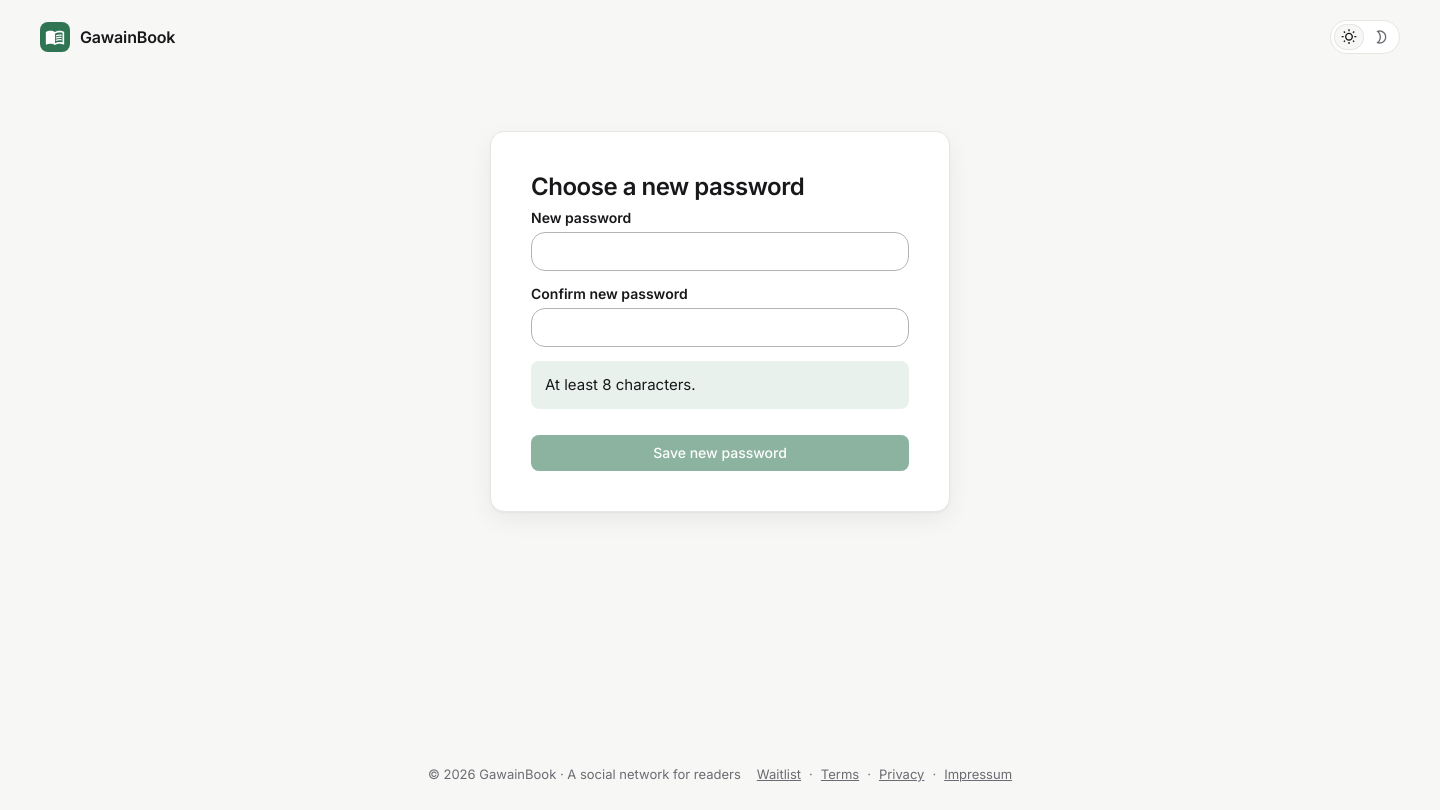
email-link tokens › an old ?token= reset link still works
In the password field labelled "New password": (720, 251) [531, 232, 909, 271], type "new-password-1"
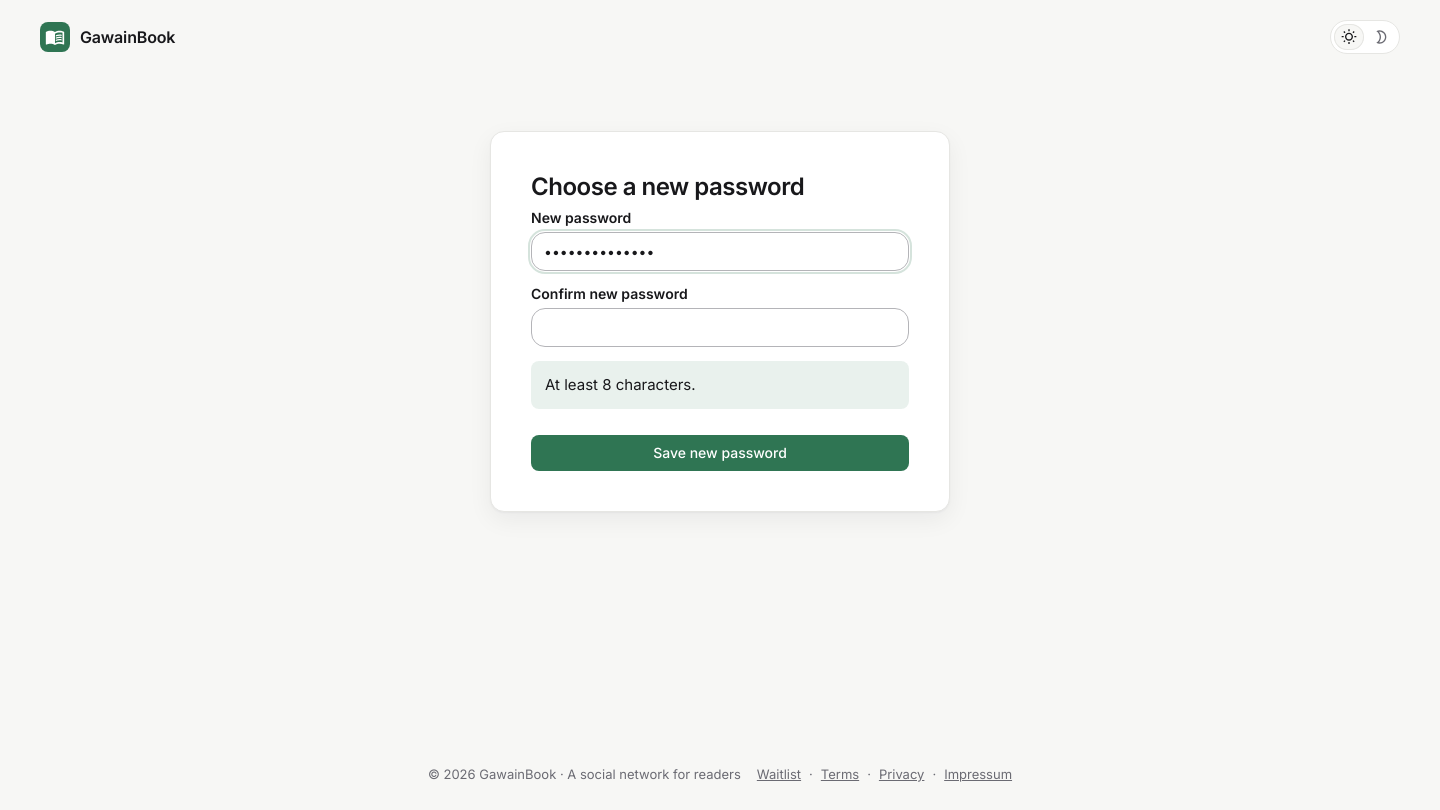
In the password field labelled "Confirm new password": (720, 327) [531, 308, 909, 347], type "new-password-1"
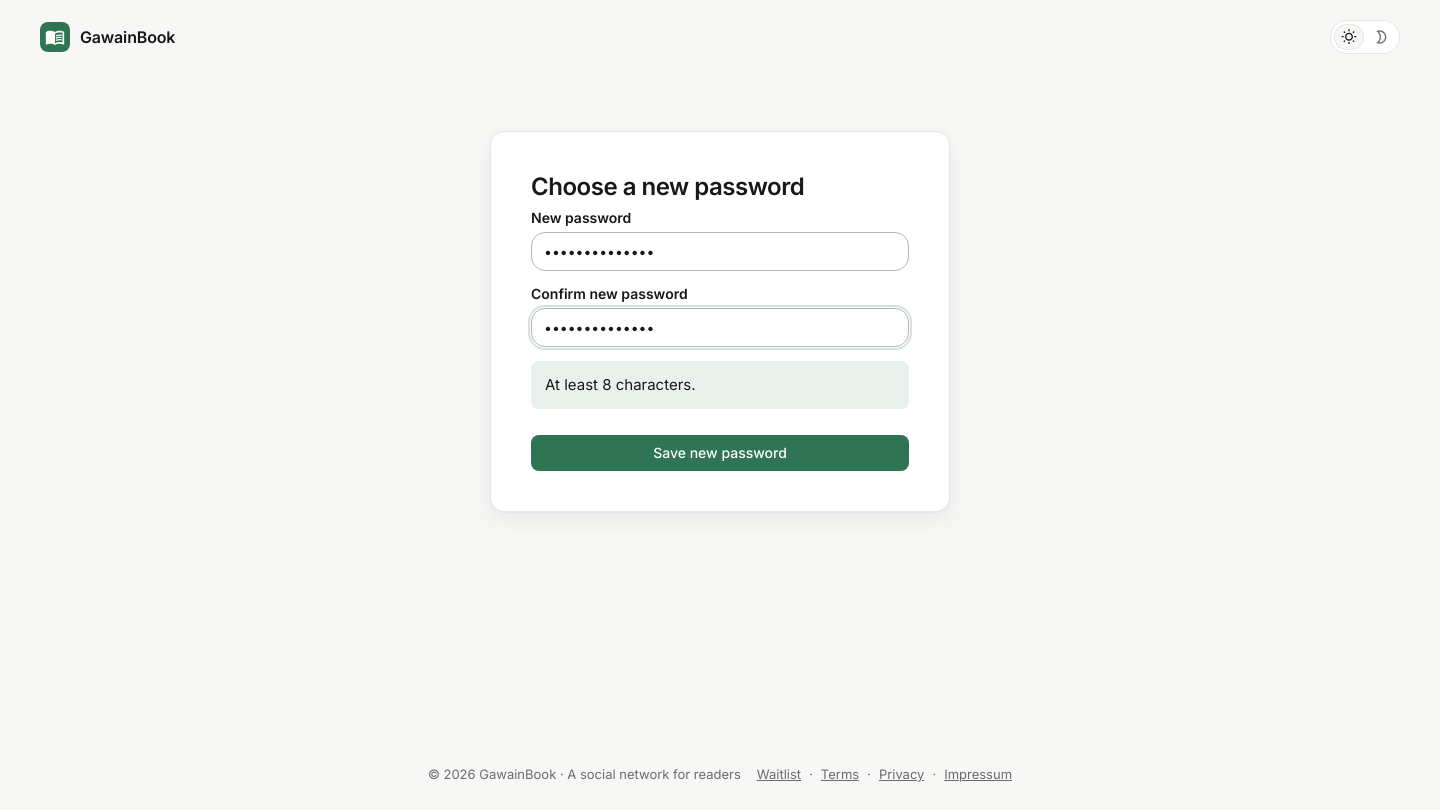
Click the button "Save new password": (720, 453) [531, 435, 909, 471]
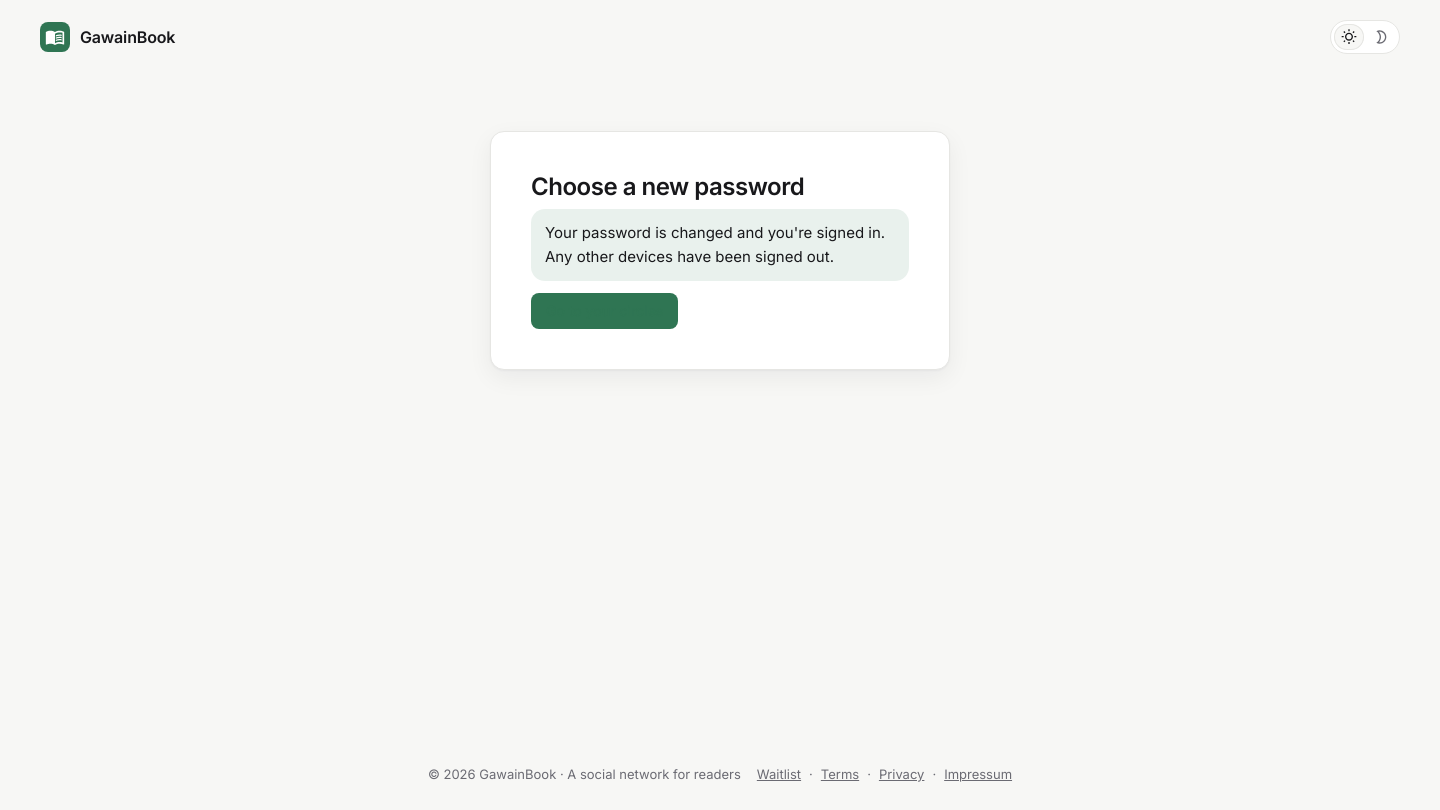
Result: the message is shown at [531, 209, 909, 281]
